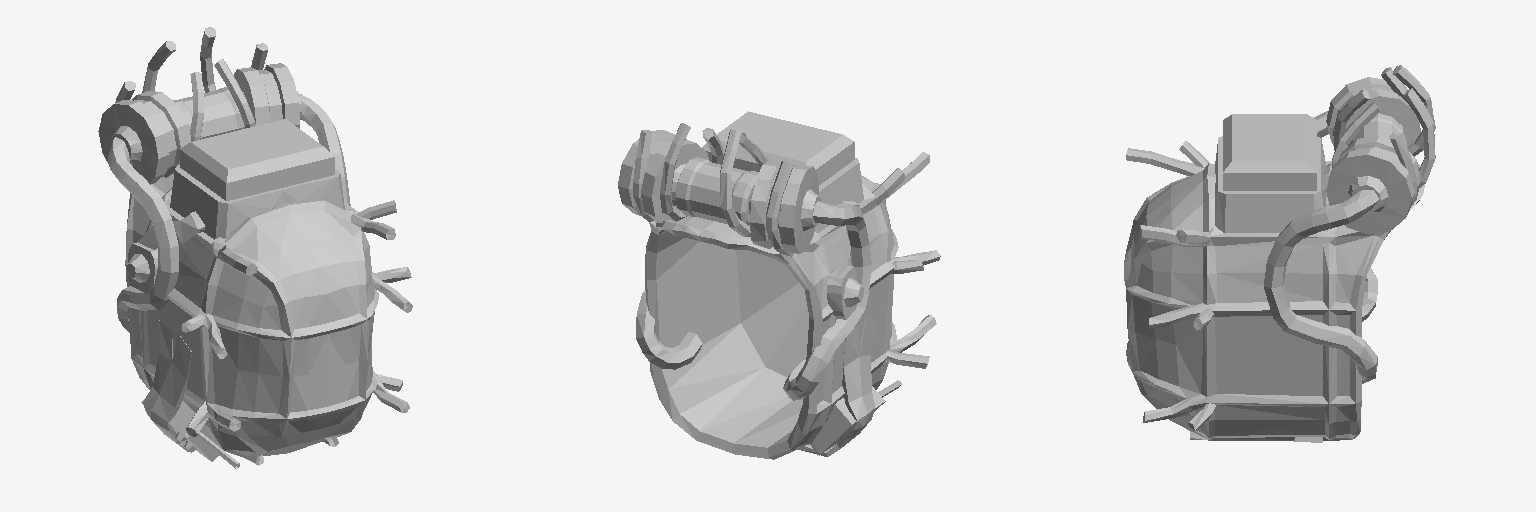
The model's file is PAHelmetRaider.obj.
3 views of the same model, side by side, from view 1: azimuth 30°, elevation 25°; view 2: azimuth 150°, elevation 25°; view 3: azimuth 270°, elevation 25° (orthographic).
Parts seen in each view (by area): view 1: Raider_Helmet:0; view 2: Raider_Helmet:0; view 3: Raider_Helmet:0.
Boxes of the visible parts, box(x1,y1,x2,y2) form: Raider_Helmet:0: box(98, 27, 412, 468); Raider_Helmet:0: box(618, 111, 940, 459); Raider_Helmet:0: box(1124, 65, 1435, 442).
Bounding box in the file's own units: 21.3 × 31.29 × 24.88.